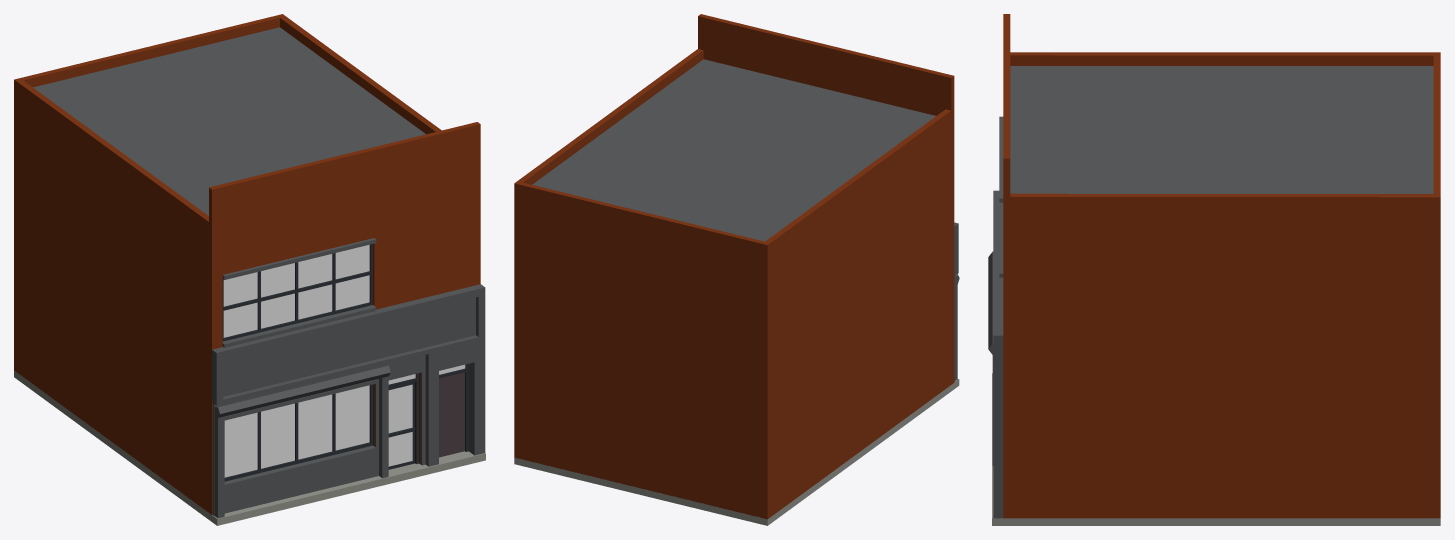
File: Two_Story_Deli_Export.fbx
The picture shows the model from 3 angles, left to right: view 1: azimuth 30°, elevation 25°; view 2: azimuth 150°, elevation 25°; view 3: azimuth 270°, elevation 25°; orthographic projection. The views are drawn at different scales.
Parts seen in each view (by area): view 1: Building, Glass, Front Wooden Door, Front Door Glass; view 2: Building; view 3: Building.
Part boxes in pixels (bbox=[...]): Building: bbox=[14, 14, 485, 525]; Glass: bbox=[223, 244, 369, 477]; Front Wooden Door: bbox=[439, 372, 464, 457]; Front Door Glass: bbox=[388, 384, 412, 466]; Building: bbox=[514, 14, 959, 525]; Building: bbox=[988, 14, 1440, 525].
Size of the model in its own units: 817 by 966 by 1079.
